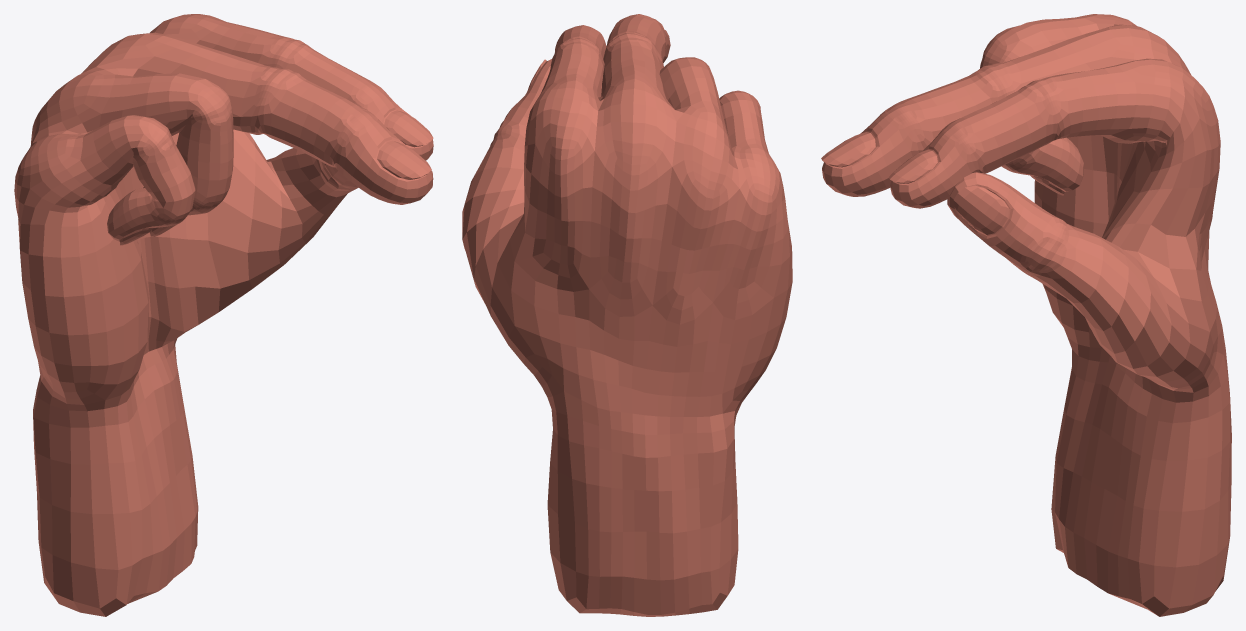
File: sheen.glb
3 views of the same model, side by side, from view 1: azimuth 30°, elevation 25°; view 2: azimuth 150°, elevation 25°; view 3: azimuth 270°, elevation 25° (orthographic). The views are drawn at different scales.
Parts seen in each view (by area): view 1: ZBrushPolyMesh3D; view 2: ZBrushPolyMesh3D; view 3: ZBrushPolyMesh3D.
Boxes of the visible parts, box(x1,y1,x2,y2) form: ZBrushPolyMesh3D: box(14, 14, 433, 616); ZBrushPolyMesh3D: box(462, 14, 792, 616); ZBrushPolyMesh3D: box(821, 14, 1231, 616).
Size of the model in its own units: 2.39 by 3.75 by 2.45.
